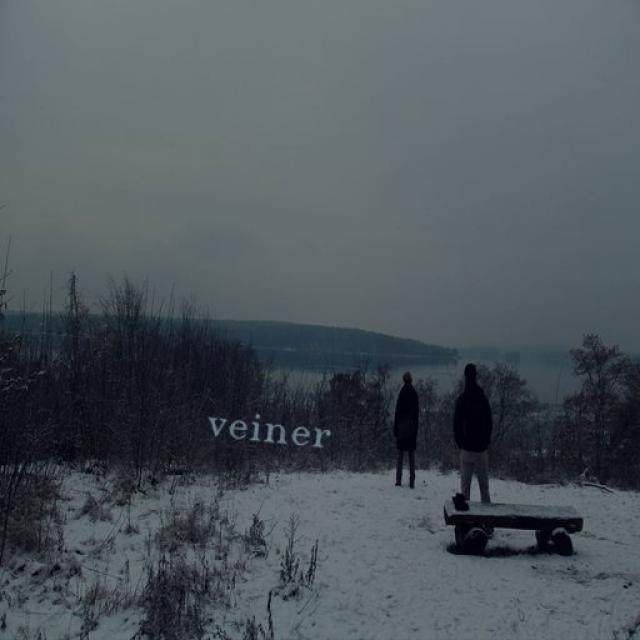watermark: (196, 406, 355, 454)
